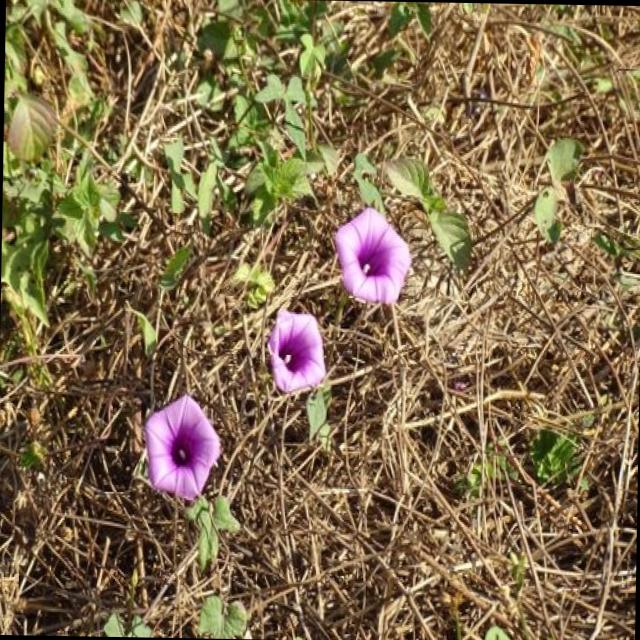ipomoea: (138, 391, 224, 505), (329, 204, 414, 310), (262, 302, 330, 400)
